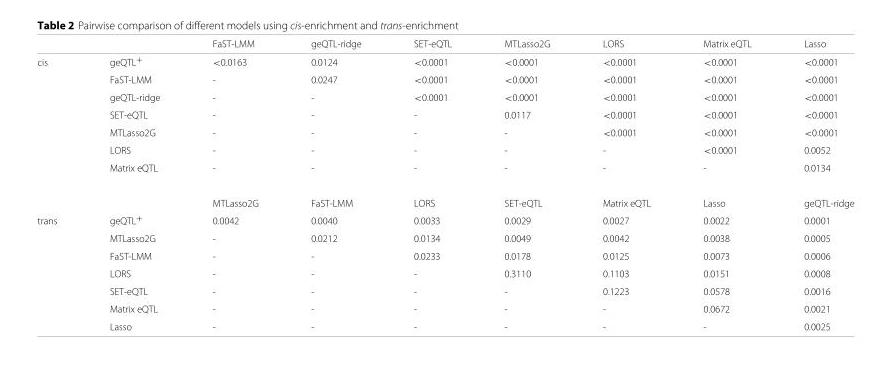table: (36, 37, 853, 331)
table column: (82, 37, 185, 331), (283, 37, 386, 331), (575, 37, 676, 331), (676, 37, 776, 331), (185, 37, 283, 331), (477, 37, 575, 331), (386, 37, 477, 331), (776, 37, 853, 331), (36, 37, 82, 331)
table column header: (36, 37, 853, 51)
table row: (36, 158, 853, 184), (36, 184, 853, 210), (36, 51, 853, 70), (36, 210, 853, 229), (36, 87, 853, 105), (36, 105, 853, 123), (36, 140, 853, 158), (36, 246, 853, 264), (36, 281, 853, 299), (36, 299, 853, 317), (36, 70, 853, 87), (36, 123, 853, 140), (36, 229, 853, 246), (36, 264, 853, 281), (36, 37, 853, 51), (36, 317, 853, 331)
table spanning cell: (36, 51, 82, 210), (36, 210, 82, 331)
